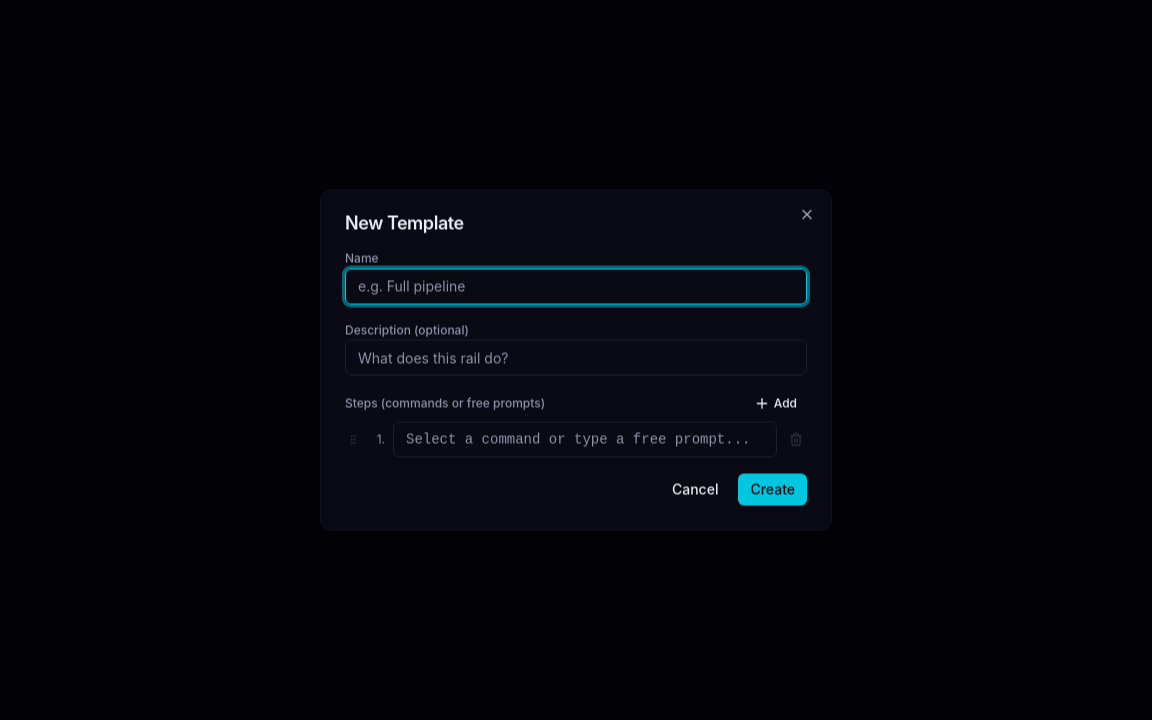
Test: CreateTemplateDialog › adds a new empty command row when Add is clicked
This screenshot has width=1152, height=720.
Click the button "Add" at (775, 404), box x1=744 y1=392 x2=807 y2=416
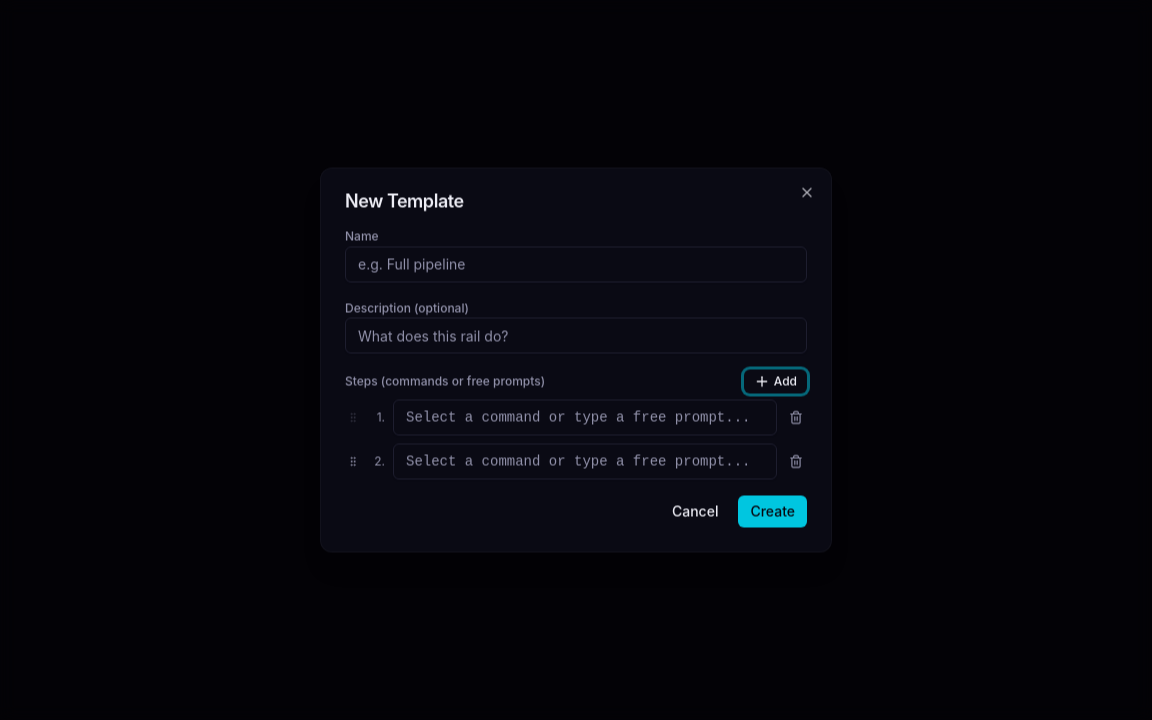
Expected: the number of fields with placeholder "Select a command or type a free prompt..." is 2, x1=393 y1=400 x2=777 y2=436; x1=393 y1=444 x2=777 y2=480
